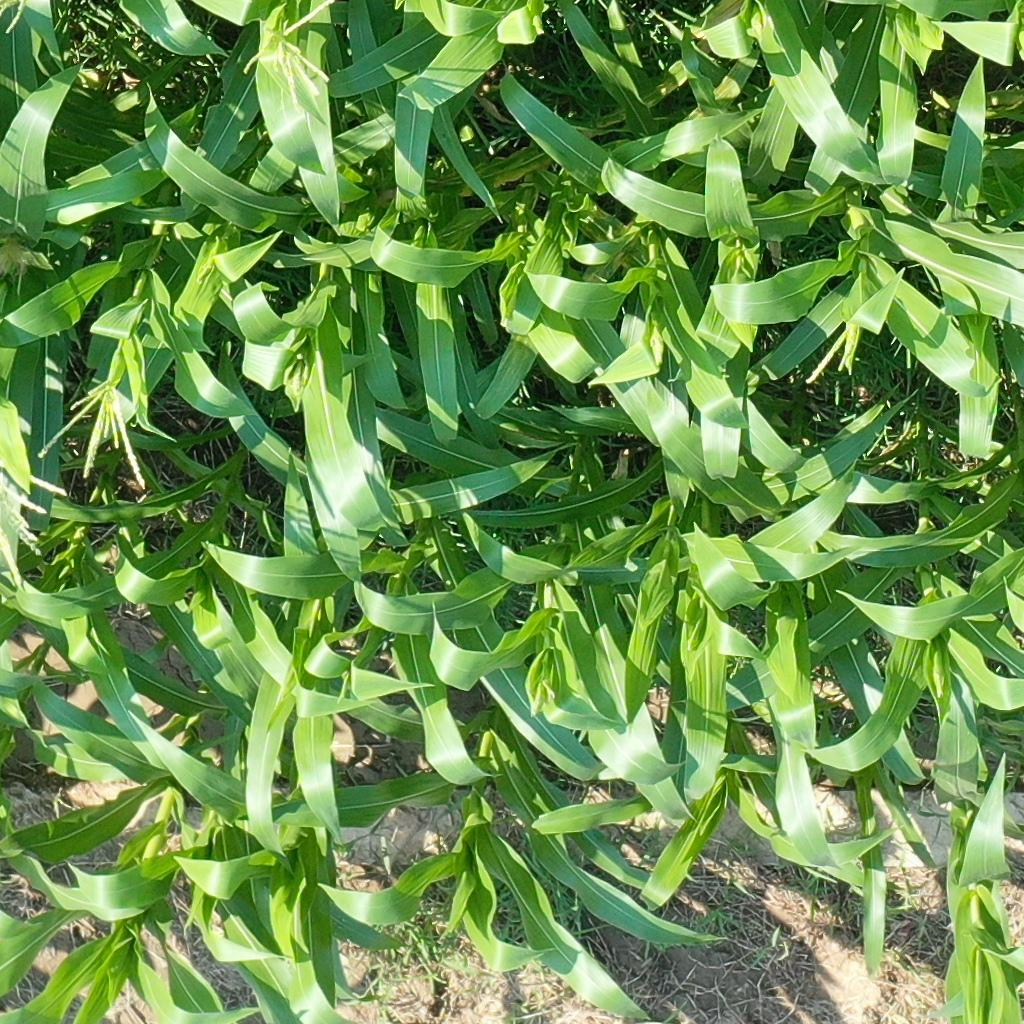Tassel: (30, 374, 167, 500), (241, 1, 338, 102), (1, 461, 72, 586), (801, 319, 871, 390), (525, 670, 557, 719), (281, 353, 310, 398), (647, 326, 667, 368)
